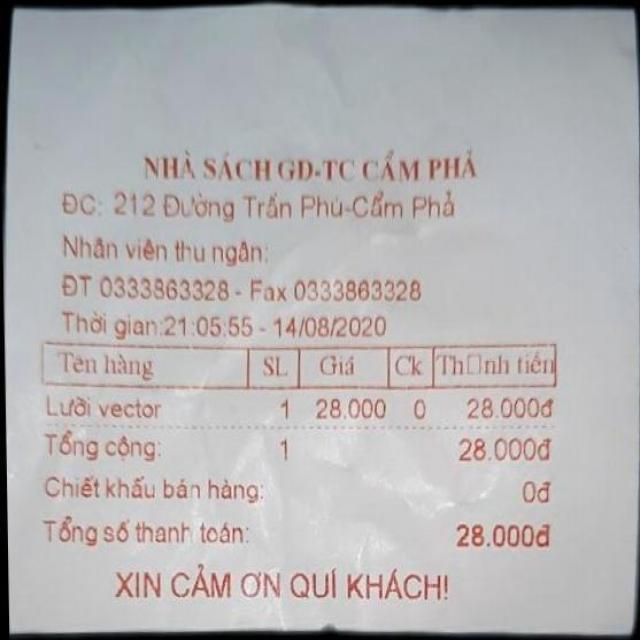Date: (264, 309, 409, 344)
Store_Name: (129, 137, 500, 187)
Total_Amount: (20, 503, 600, 562)
